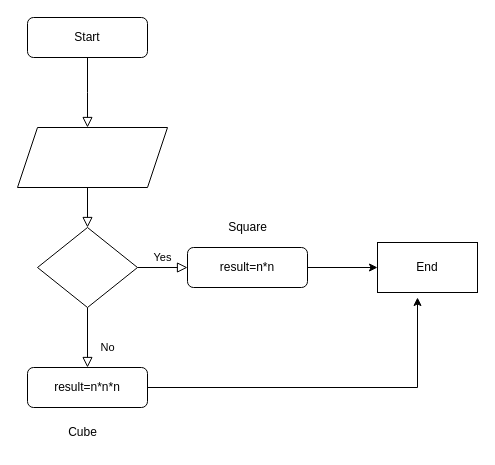
Some shapes in this 495 by 465 pixel diagram are drawn without their labels. The shapes that lost their labels are listed below. From the top down, each one's centre as x and y in pixels, then its label:
point 92,157: int n,result=0
point 87,267: if n%2==0
